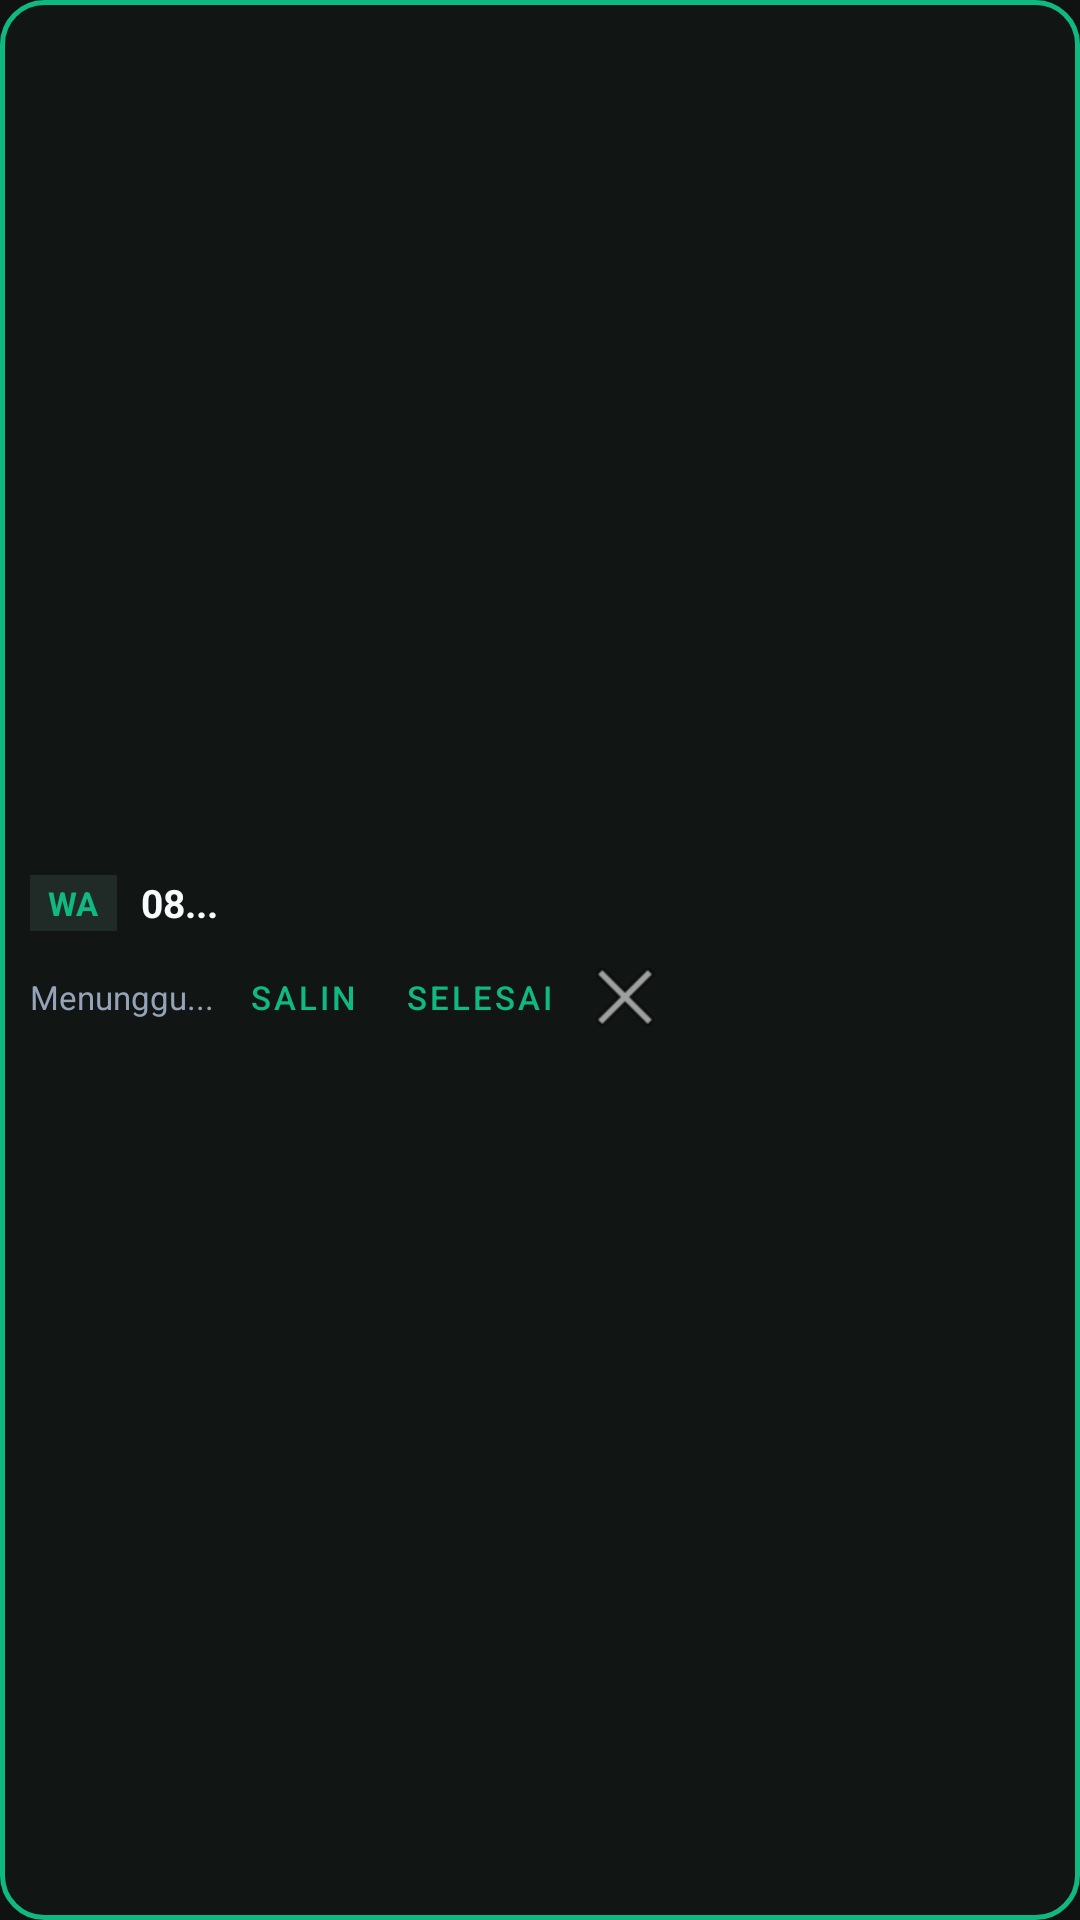

Where to tap for icons on this 1080x1920 app screen, as [x,y]:
Tutup: [625,997]
